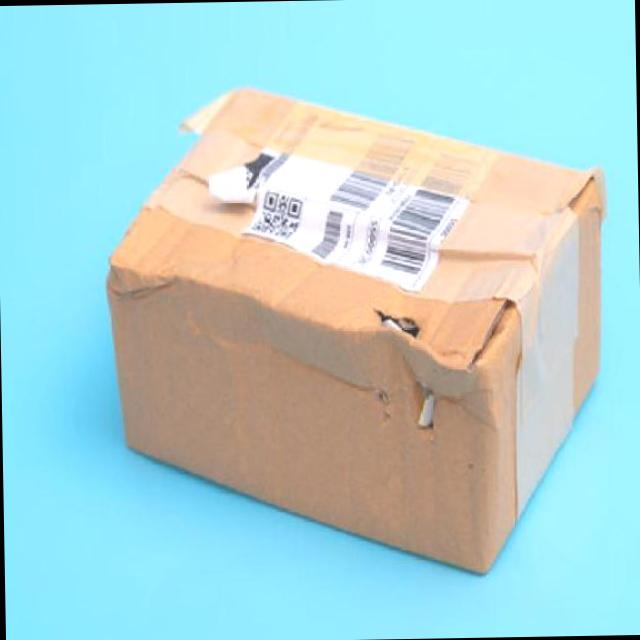box: (31, 25, 616, 617)
